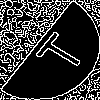T: (25, 25, 90, 77)
